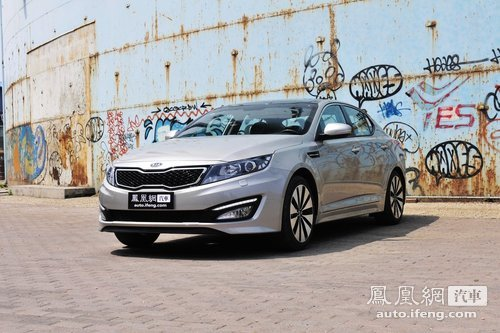car: (55, 85, 428, 254)
